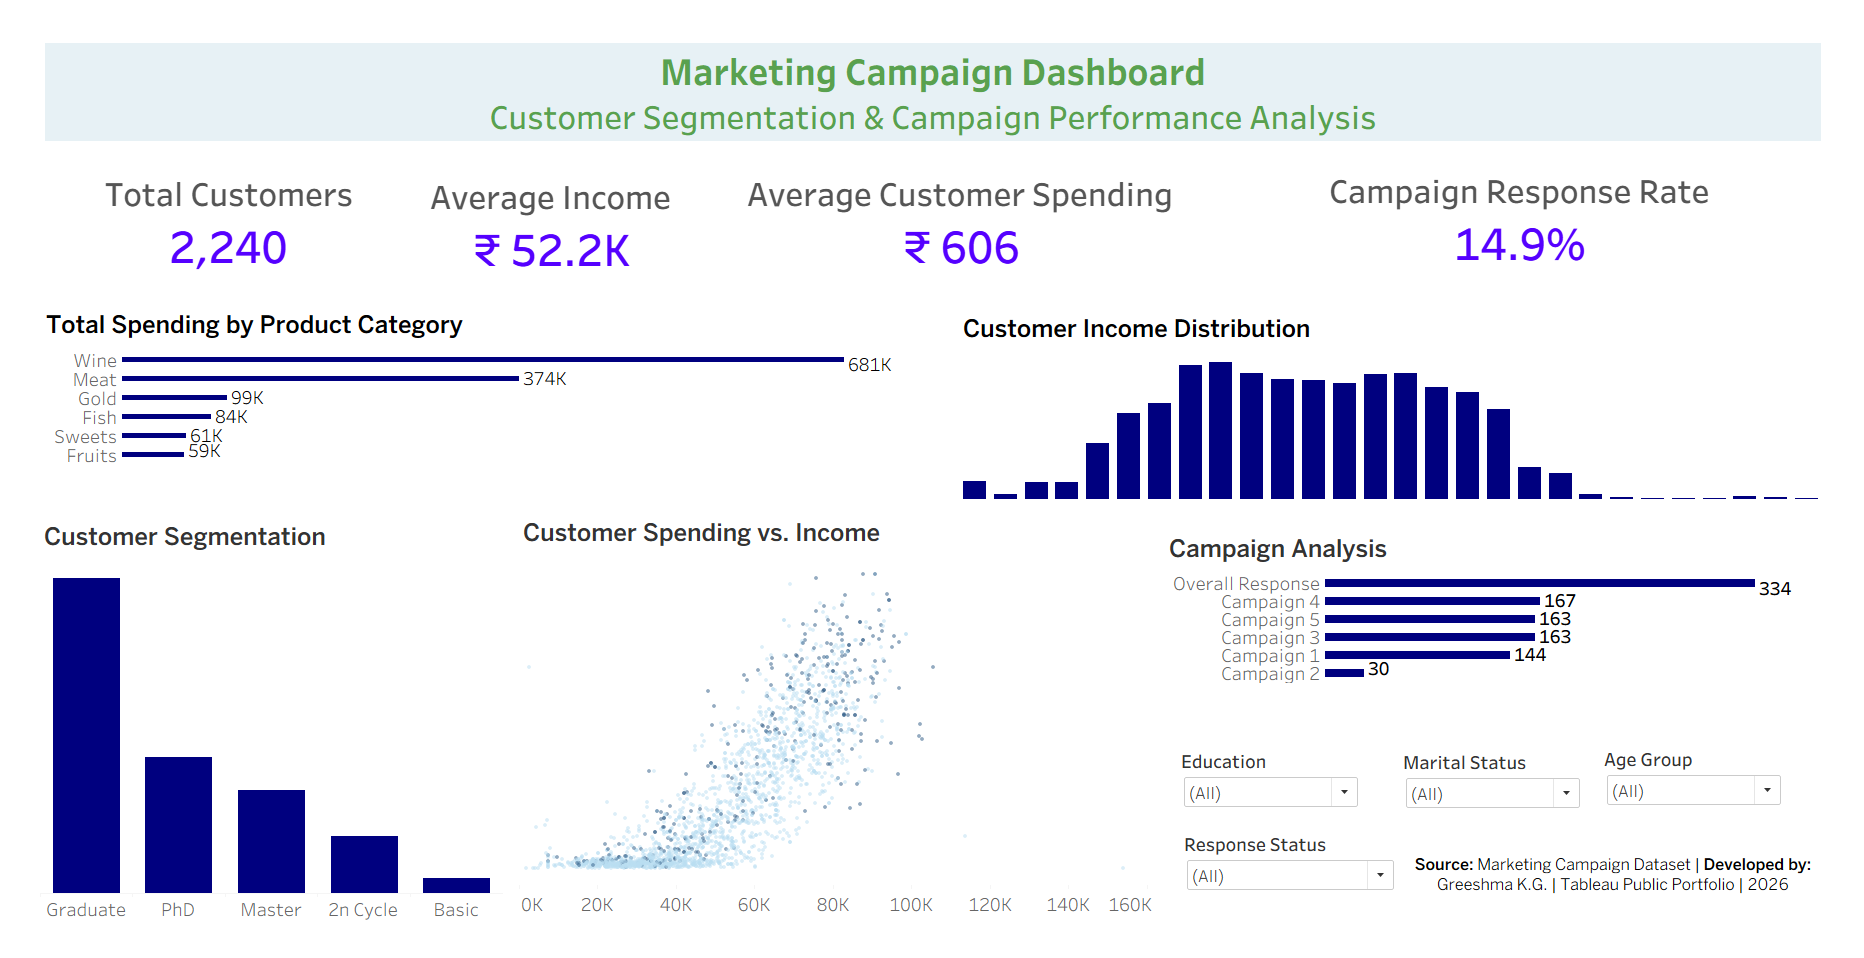

The page's visual inventory and layout, read from the dashboard file:
{"tool":"tableau","page":{"name":"Dashboard ","canvas":[1000,1000],"units":"permille","ordinal":0},"visuals":[{"type":"title","box":[5,10.7,990,142.1]},{"type":"worksheet","title":"KPI -  Response","mark":"Automatic","box":[715.1,152.8,277.4,146.1]},{"type":"worksheet","title":"KPI - Total Customers","mark":"Automatic","box":[5,156.6,207.8,145.9]},{"type":"worksheet","title":"KPI -  Total Spending","mark":"Automatic","box":[393.4,156.8,317.3,143.4]},{"type":"worksheet","title":"KPI - Average Income","mark":"Automatic","box":[215.7,159.5,192,142.1]},{"type":"worksheet","title":"Product Category Spending","mark":"Automatic","box":[5,305.6,494.4,225.2]},{"type":"worksheet","title":"Income Distribution","mark":"Automatic","rows":["ID"],"cols":["Income (bin)"],"box":[514.3,309.7,479.4,210.5]},{"type":"worksheet","title":"Customer Spending vs. Income","mark":"Automatic","rows":["Calculation_226305909626654720"],"cols":["Income"],"box":[269.9,536.2,352.9,446.4]},{"type":"worksheet","title":"Customer Segmentation","mark":"Automatic","rows":["ID"],"cols":["Education"],"box":[3.7,541.5,257.5,449.1]},{"type":"worksheet","title":"Campaign Analysis","mark":"Automatic","box":[629.1,555,362.2,206.4]},{"type":"filter","title":"Customer Segmentation","param":"[federated.0omjfve0wnoain1b9w9q20g0gnj1].[none:Calculation_226305909628112899:nk","box":[872.8,794.9,99.8,99.2]},{"type":"filter","title":"Customer Segmentation","param":"[federated.0omjfve0wnoain1b9w9q20g0gnj1].[none:Education:nk]","box":[637.8,796.2,99.8,83.1]},{"type":"filter","title":"Customer Segmentation","param":"[federated.0omjfve0wnoain1b9w9q20g0gnj1].[none:Marital_Status:nk]","box":[761.2,797.6,99.8,93.8]},{"type":"text","box":[762.5,886.1,231.3,103.2]},{"type":"filter","title":"Campaign Analysis","param":"[federated.0omjfve0wnoain1b9w9q20g0gnj1].[none:Calculation_460493091307057152:nk","box":[639.6,888.7,118.5,88.5]}]}

Visuals, with their boxes on the dashboard's canvas, which has no fixed pixel size, in thousandths of its width and height (x1, y1, x2, y2). These are canvas units, not pixel positions in the 1864x958 screenshot, which may show the page scaled, cropped or inside an application window:
title: 5 11 995 153
"KPI -  Response" worksheet: 715 153 992 299
"KPI - Total Customers" worksheet: 5 157 213 302
"KPI -  Total Spending" worksheet: 393 157 711 300
"KPI - Average Income" worksheet: 216 160 408 302
"Product Category Spending" worksheet: 5 306 499 531
"Income Distribution" worksheet: 514 310 994 520
"Customer Spending vs. Income" worksheet: 270 536 623 983
"Customer Segmentation" worksheet: 4 542 261 991
"Campaign Analysis" worksheet: 629 555 991 761
"Customer Segmentation" filter: 873 795 973 894
"Customer Segmentation" filter: 638 796 738 879
"Customer Segmentation" filter: 761 798 861 891
text: 762 886 994 989
"Campaign Analysis" filter: 640 889 758 977
